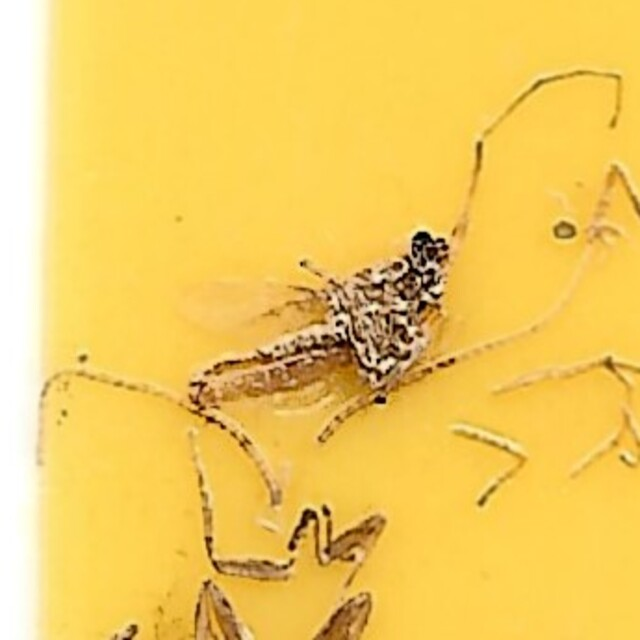Nematocera: (186, 215, 454, 425)
